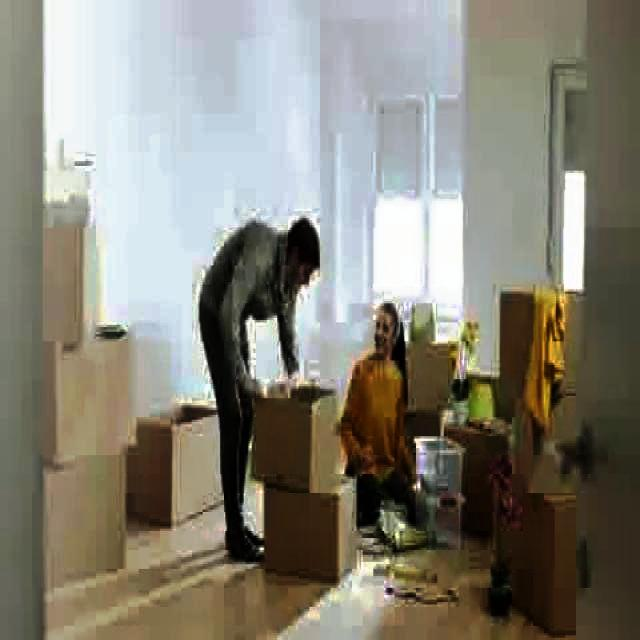Box: (38, 336, 150, 464), (138, 408, 218, 531), (266, 486, 358, 583), (36, 476, 121, 574), (253, 382, 332, 484), (45, 208, 103, 342)
